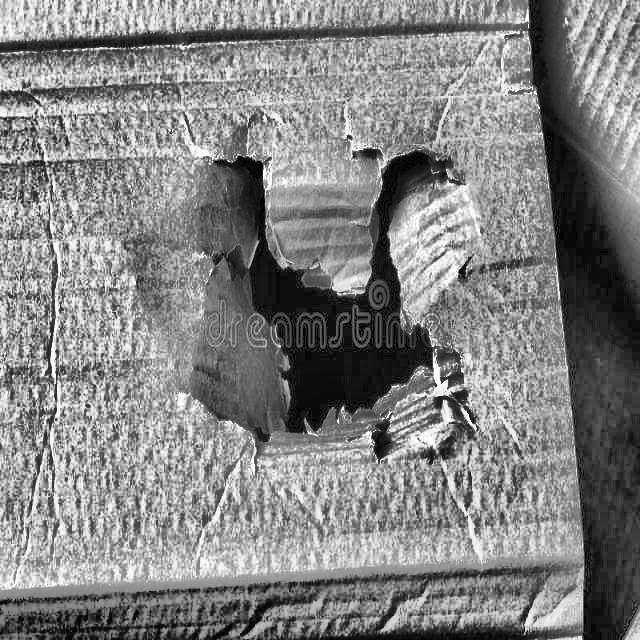box: (0, 0, 590, 640)
hole: (184, 124, 480, 460)
